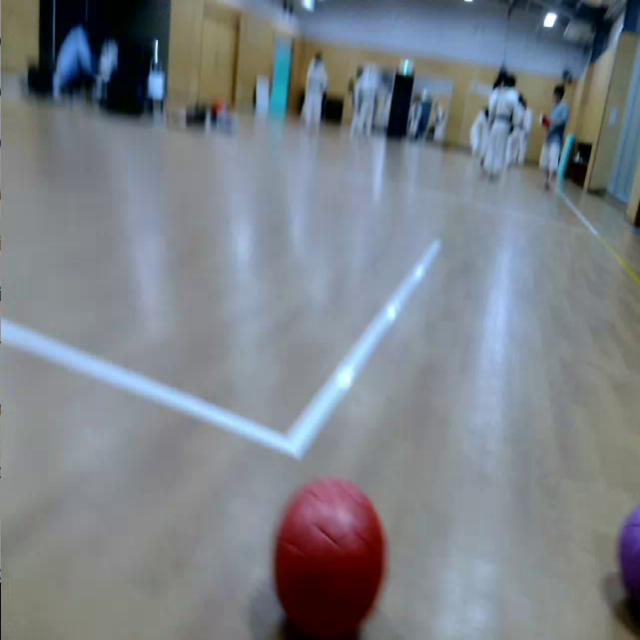purple_ball: (615, 502, 640, 611)
red_ball: (271, 475, 386, 632)
